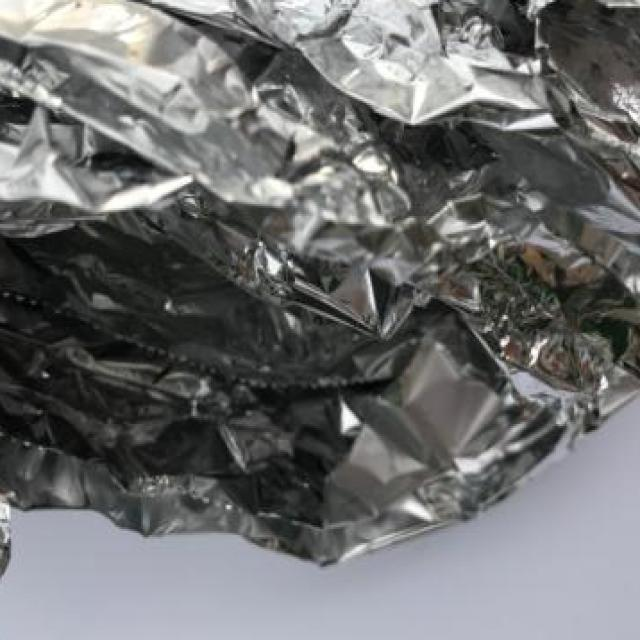organic: (30, 10, 624, 573)
